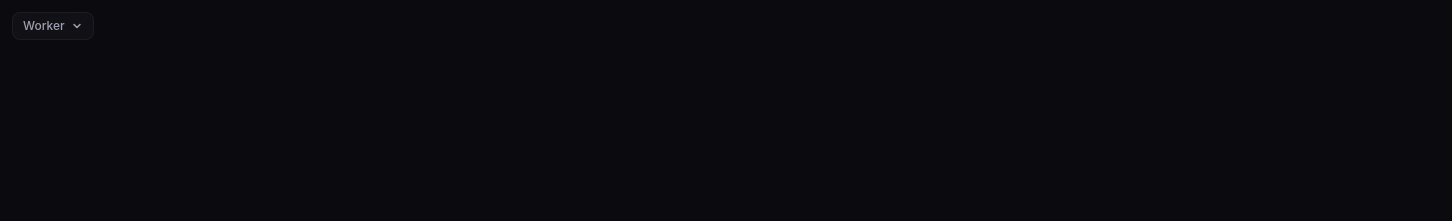
Test: PrimaryWorkerSelector (live catalog model source) › reflects the catalog hook loading state when the dropdown is open
What coordinates should you click on to do the following:
click the button titled "Set Strada's primary execution worker"
I would click on:
 (53, 26)
Its box is [12,12,94,40].
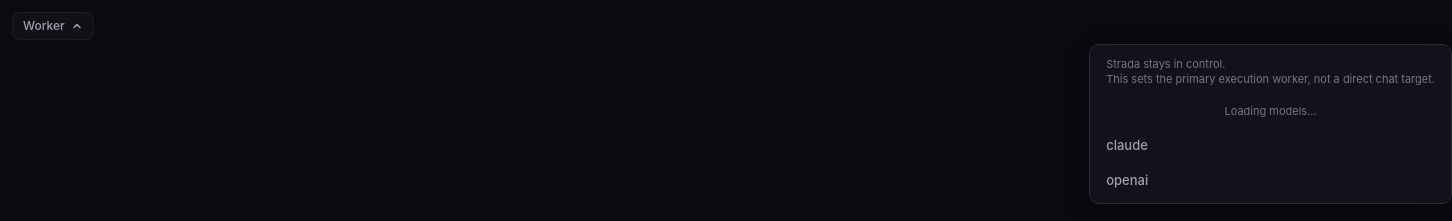
Check: the text "Loading models..." is shown, box [1224,104,1317,118]
